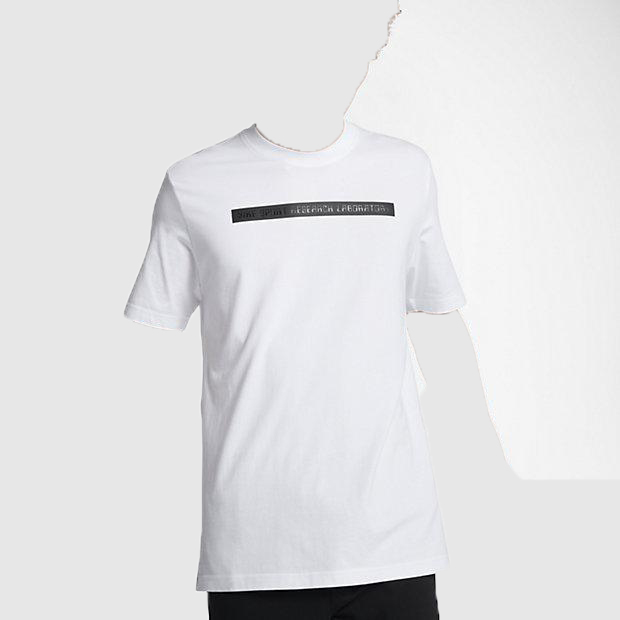teeshirt: (118, 123, 479, 590)
